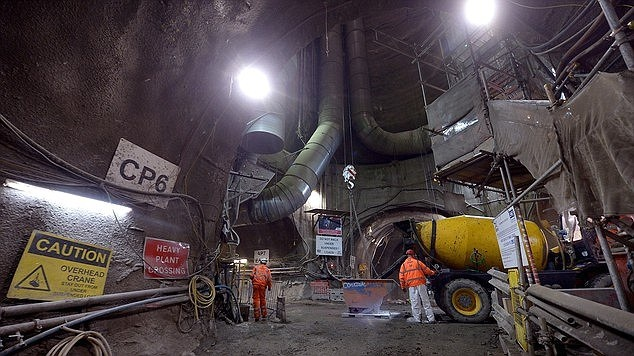red: (405, 248, 415, 259)
white: (258, 256, 268, 266)
